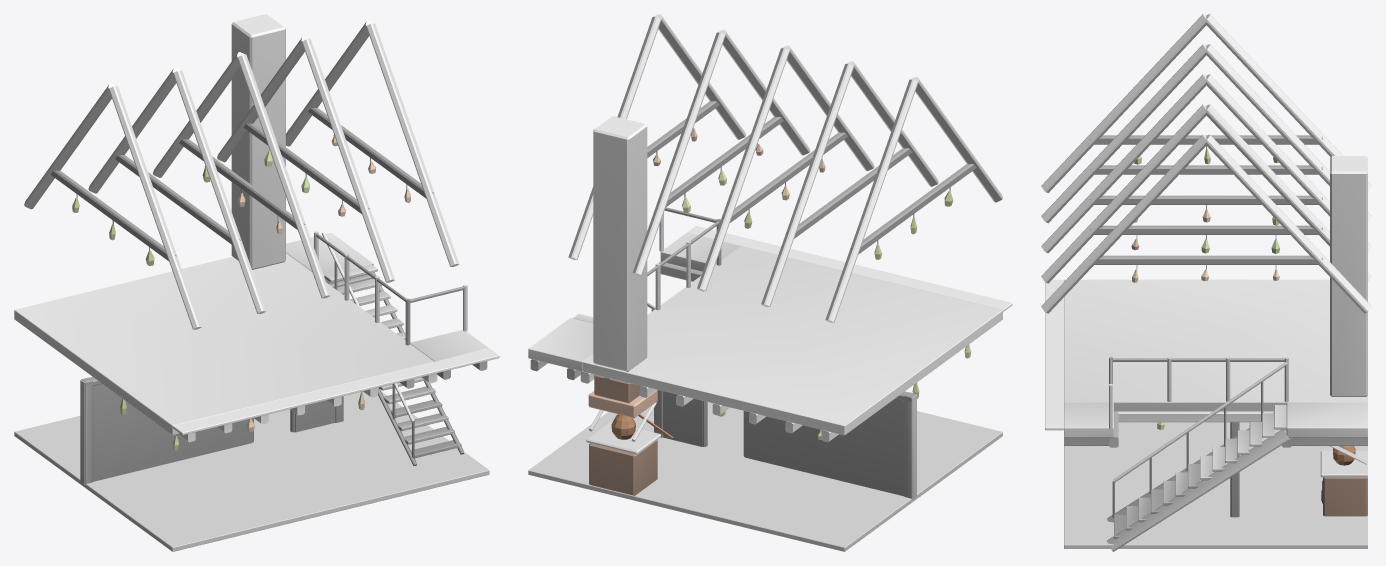
Rendered from apothecary_interior.glb.
3 views of the same model, side by side, from view 1: azimuth 30°, elevation 25°; view 2: azimuth 150°, elevation 25°; view 3: azimuth 270°, elevation 25° (orthographic). The views are drawn at different scales.
Visible parts, largest first — view 1: alembic; view 2: alembic; view 3: alembic.
Boxes of the visible parts, x1,y1,x2,y2 form: alembic: (14, 14, 499, 551); alembic: (528, 14, 1012, 551); alembic: (1041, 14, 1371, 551).
Size of the model in its own units: 7.48 by 9.18 by 6.96.
